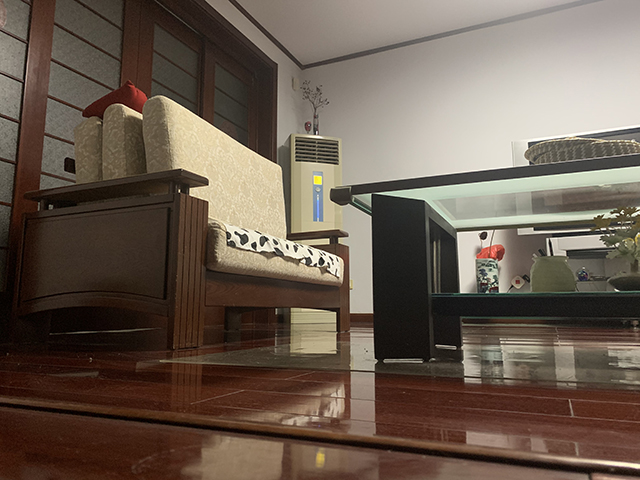sofa: (1, 77, 351, 352)
table: (328, 150, 640, 367)
